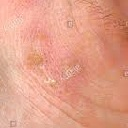Actinic: (25, 30, 52, 72)
